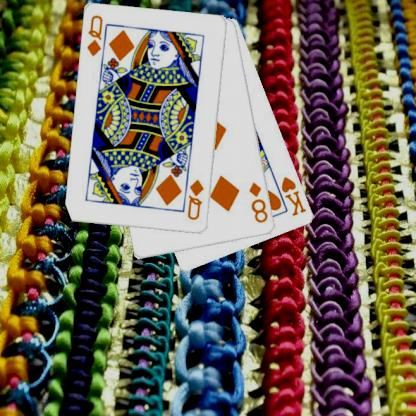8D: (247, 180, 270, 224)
KH: (278, 174, 308, 217)
QD: (184, 177, 206, 222), (84, 13, 104, 58)
